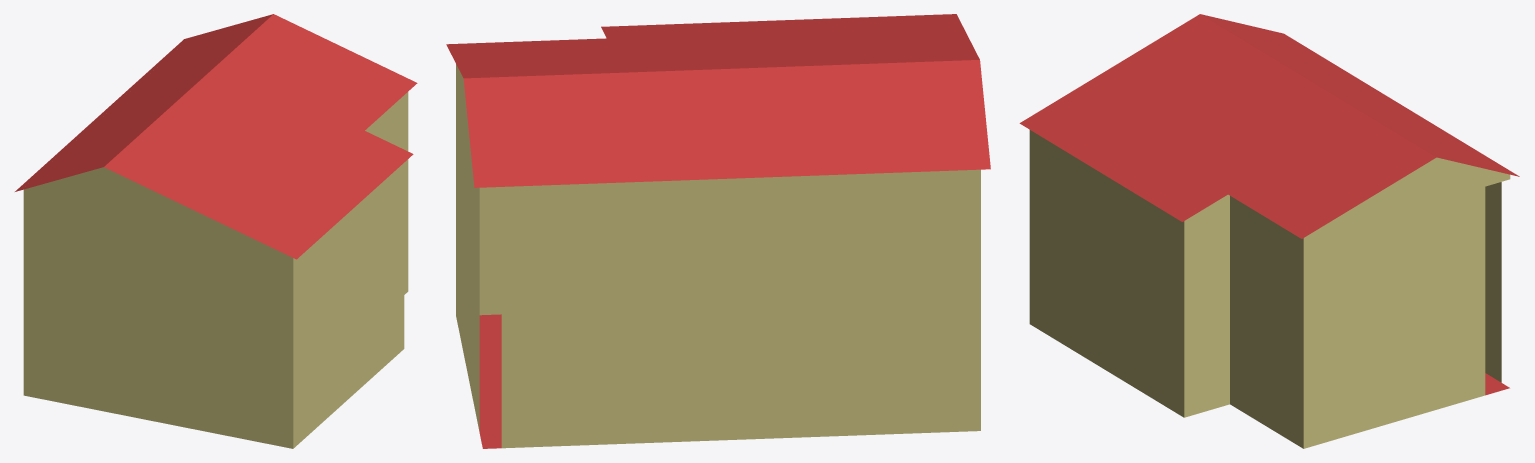
The picture shows the model from 3 angles, left to right: view 1: azimuth 30°, elevation 25°; view 2: azimuth 150°, elevation 25°; view 3: azimuth 270°, elevation 25°; orthographic projection. The views are drawn at different scales.
Size of the model in its own units: 16.69 by 17 by 9.59.
